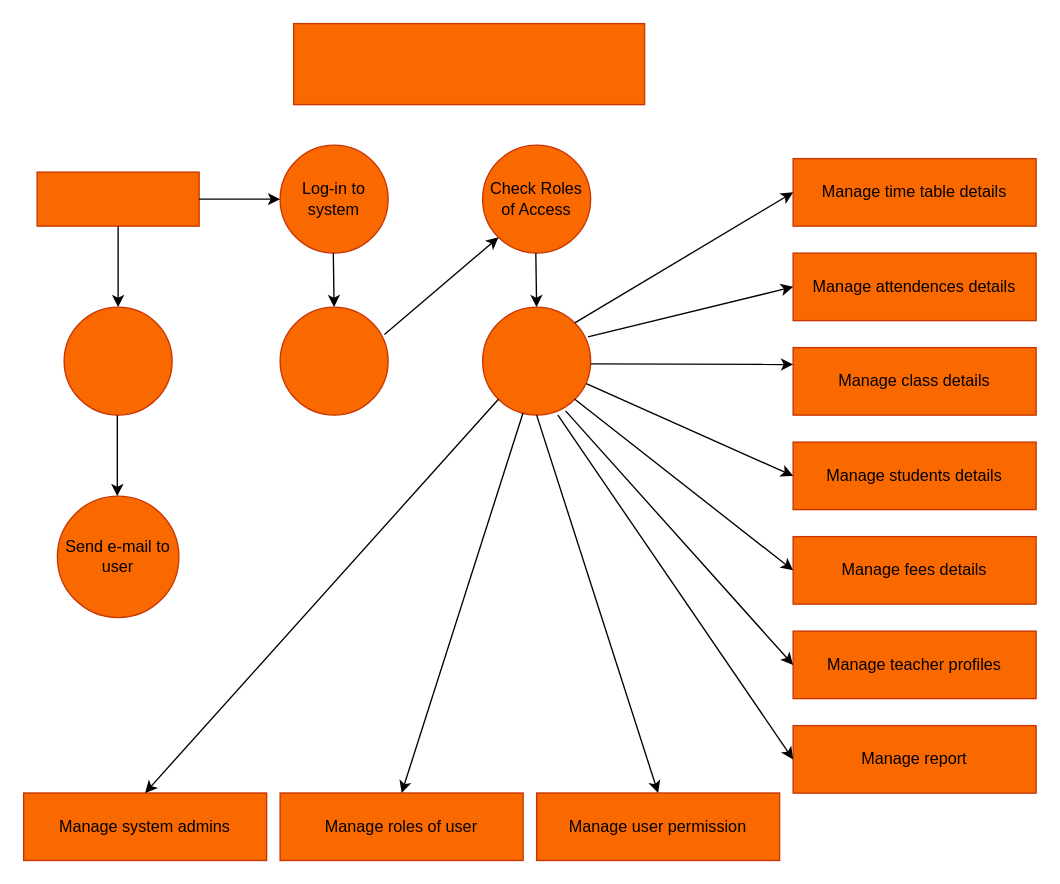
This 1060x884 diagram has some shape labels left out. The shapes that lost their labels are listed below. From the top down, each one's centre as x and y in pixels, then its label:
At (468,63): "Student Information System".
At (117,198): "Admin".
At (117,360): "Forgot password".
At (333,360): "Check credentials".
At (536,360): "Manage Modules".
